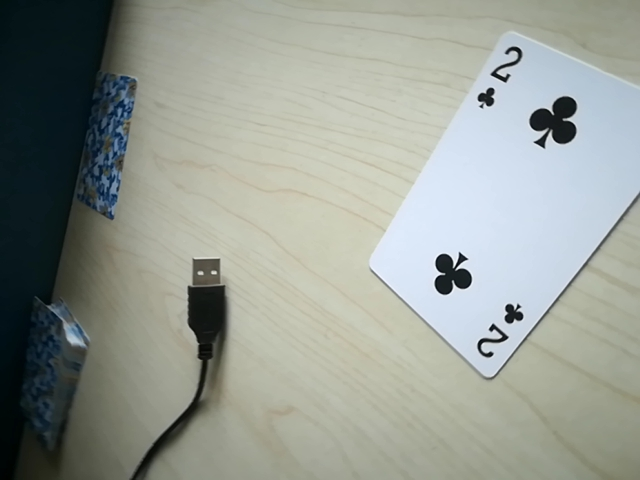mh 2: (468, 299, 528, 372), (177, 251, 237, 286)
